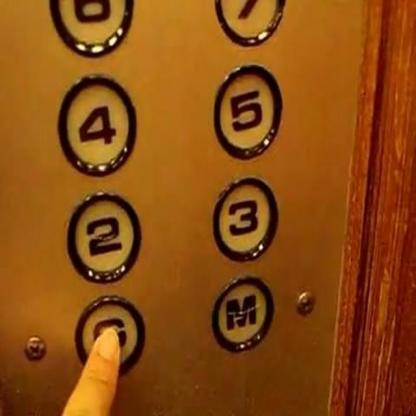2: (63, 187, 142, 287)
3: (209, 172, 280, 265)
4: (54, 70, 138, 180)
5: (210, 60, 284, 163)
M: (209, 271, 277, 357)
